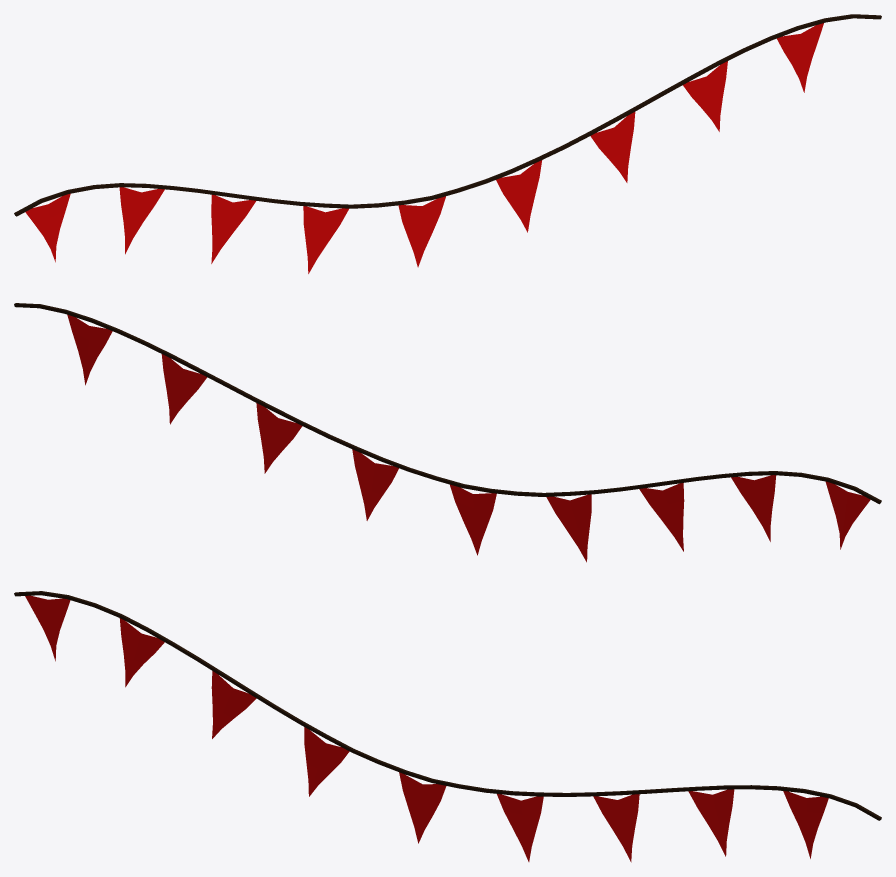
File: Banderin.fbx
3 views of the same model, one above another, from view 1: azimuth 30°, elevation 25°; view 2: azimuth 150°, elevation 25°; view 3: azimuth 330°, elevation 25° (orthographic).
Visible parts, largest first — view 1: Plane, Cube; view 2: Plane, Cube; view 3: Plane, Cube.
Part boxes in pixels (x1,y1,x2,y2): Plane: [25, 23, 823, 273]; Cube: [14, 14, 881, 216]; Plane: [67, 314, 870, 562]; Cube: [14, 303, 881, 504]; Plane: [25, 595, 828, 862]; Cube: [14, 591, 881, 820].
Bounding box in the file's own units: 3117 × 560 × 32.23.
